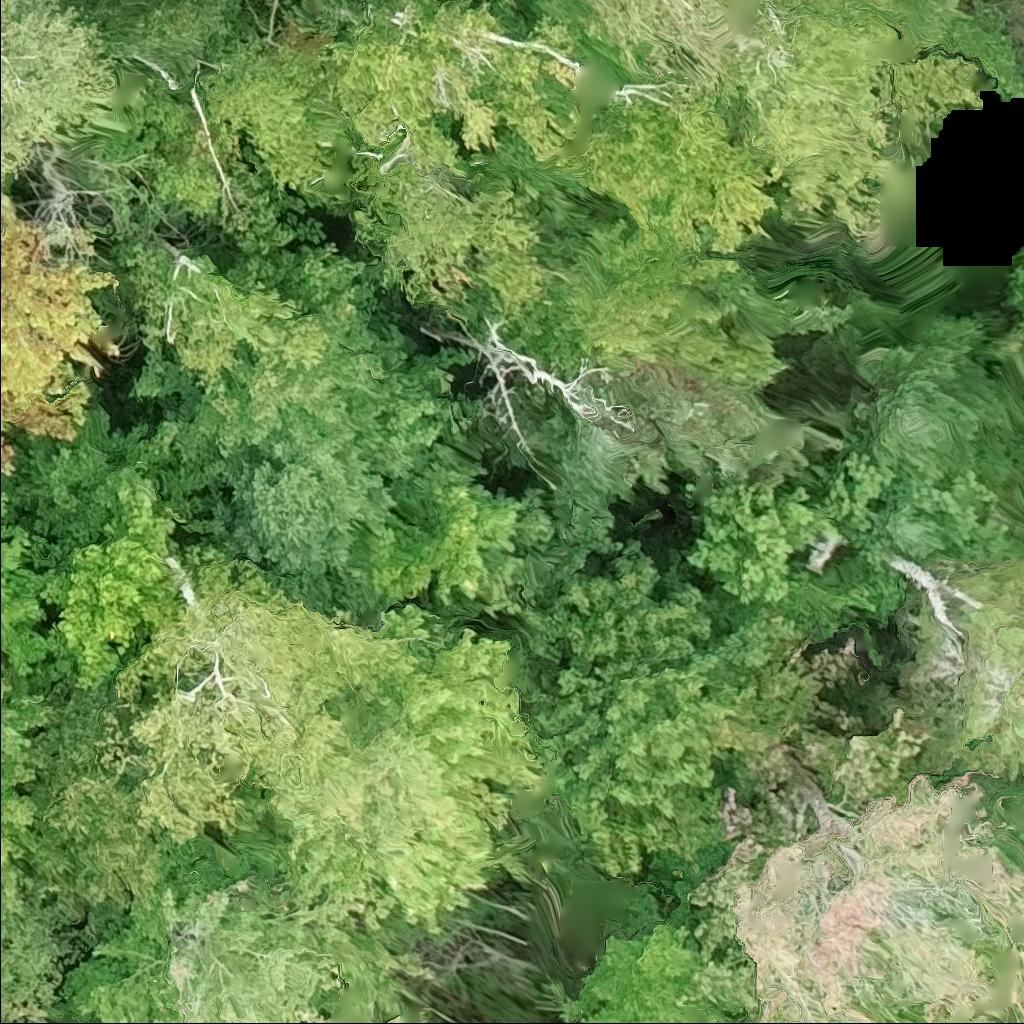crown: (0, 216, 122, 475), (0, 0, 120, 194), (0, 191, 18, 218)
